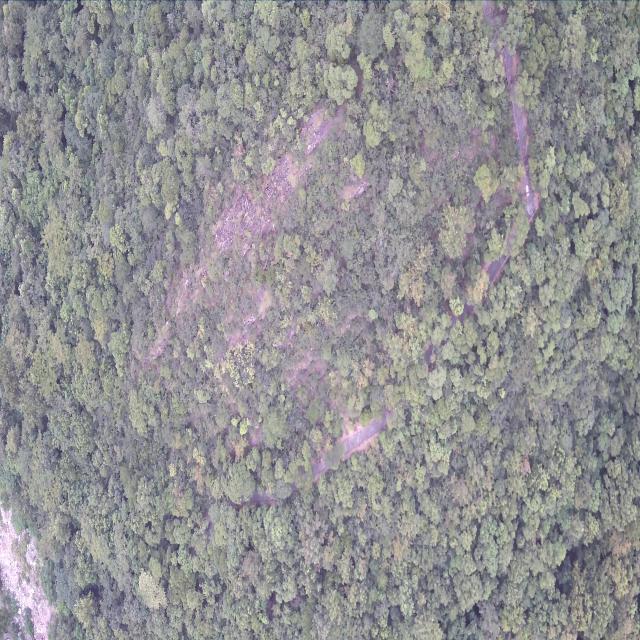UAV: (272, 222, 276, 231)
